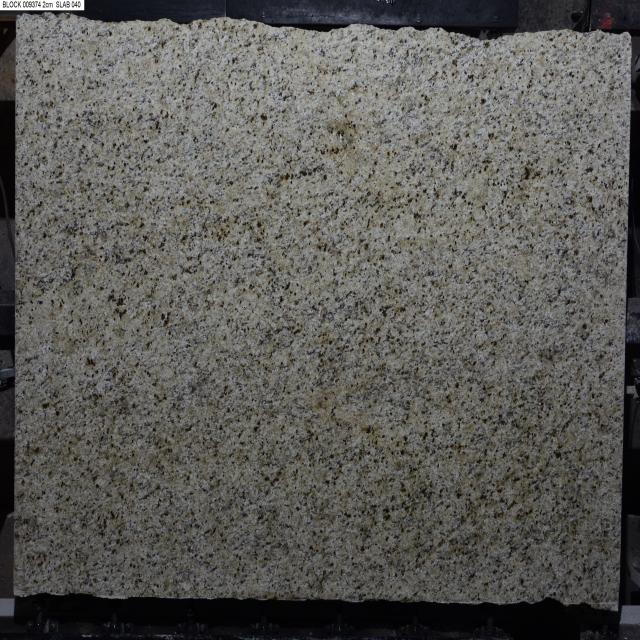chapa: (15, 15, 630, 610)
